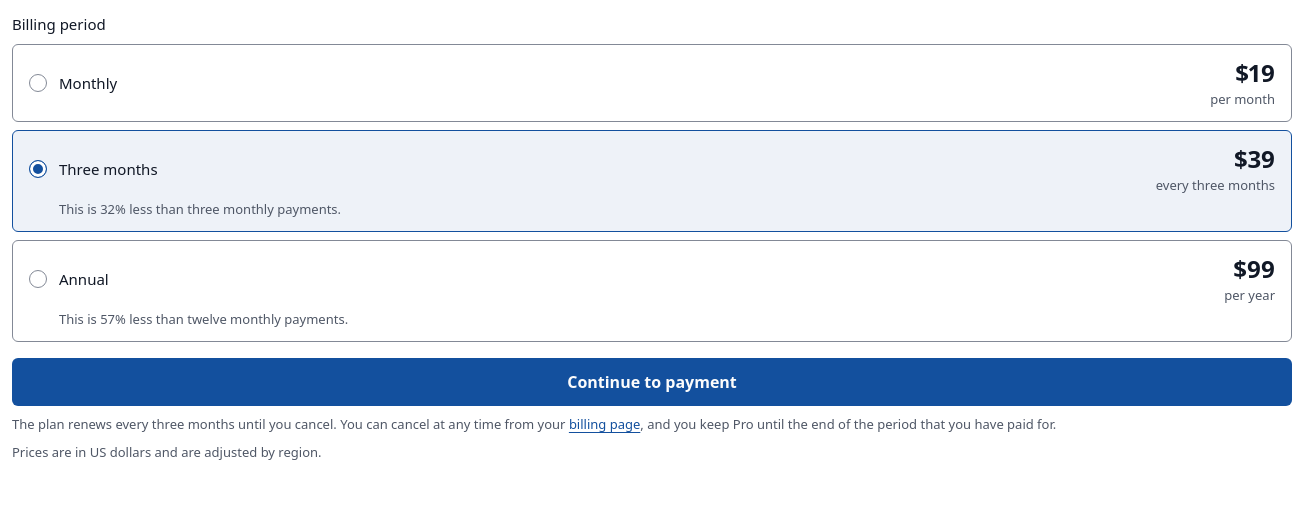
it: opening the payment page › says what went wrong in a sentence, and makes the choice available again
This screenshot has width=1304, height=509.
Click the button "Continue to payment" at (652, 382), box [12,358,1292,406]
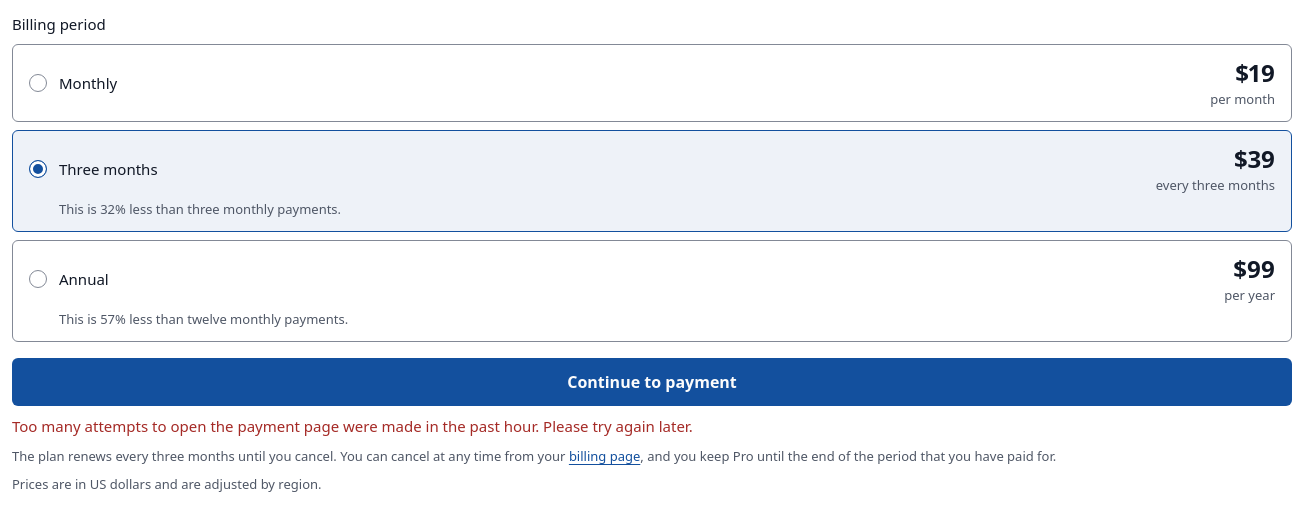
Now the message shows "Too many attempts to open the payment page were made in the past hour. Please try again later.", box [12,416,693,436]
Click the button "Continue to payment" at (652, 382), box [12,358,1292,406]
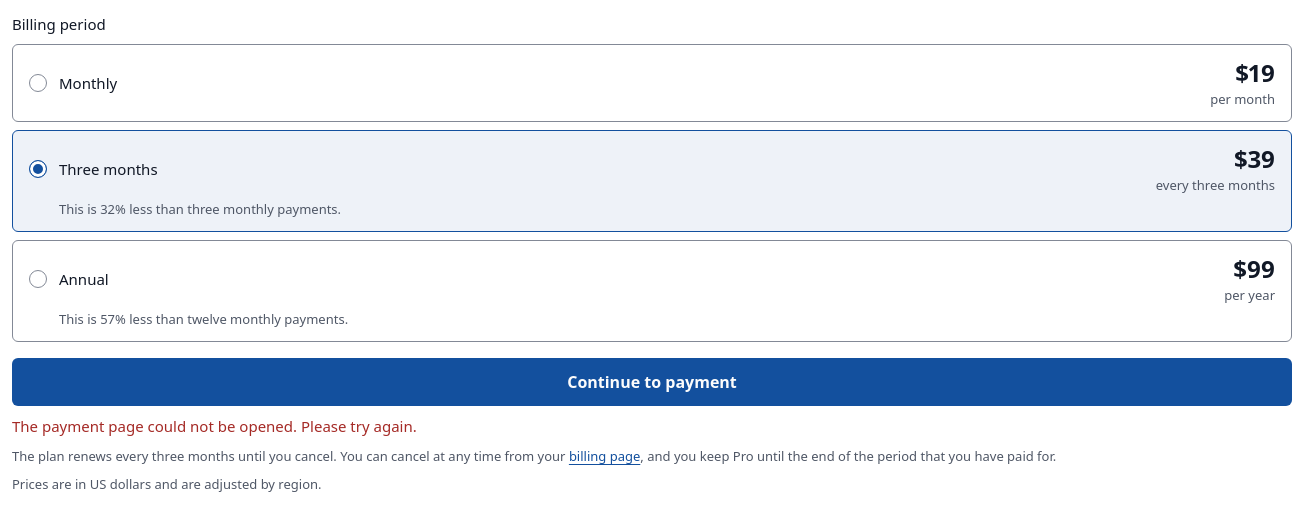
Now the message reads "The payment page could not be opened. Please try again.", box [12,416,417,436]
Click the button "Continue to payment" at (652, 382), box [12,358,1292,406]
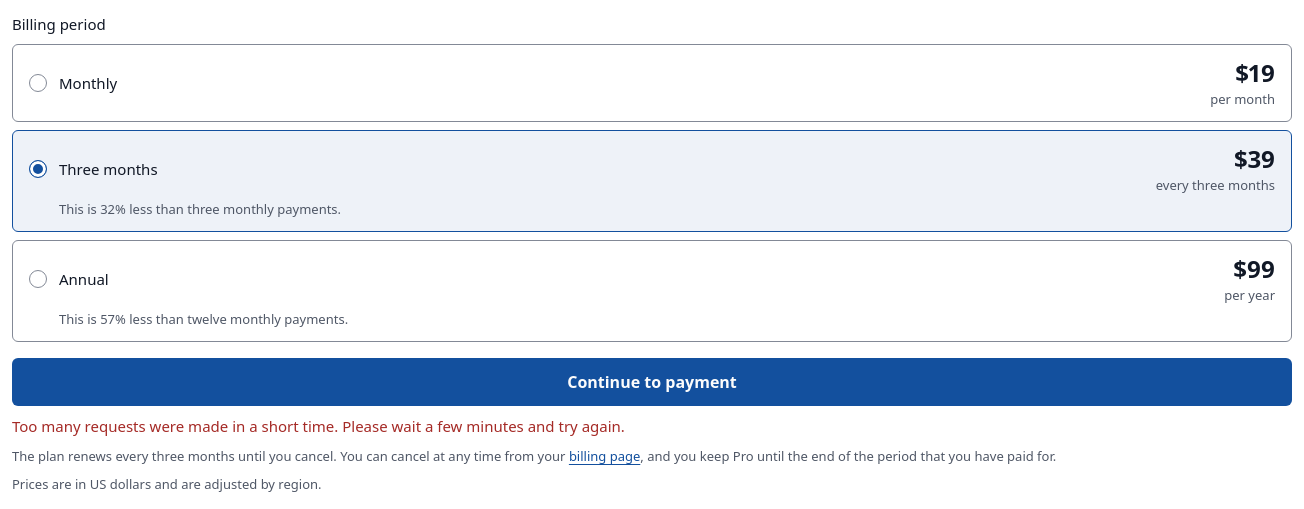
Now the message shows "Too many requests were made", box [12,416,625,436]
